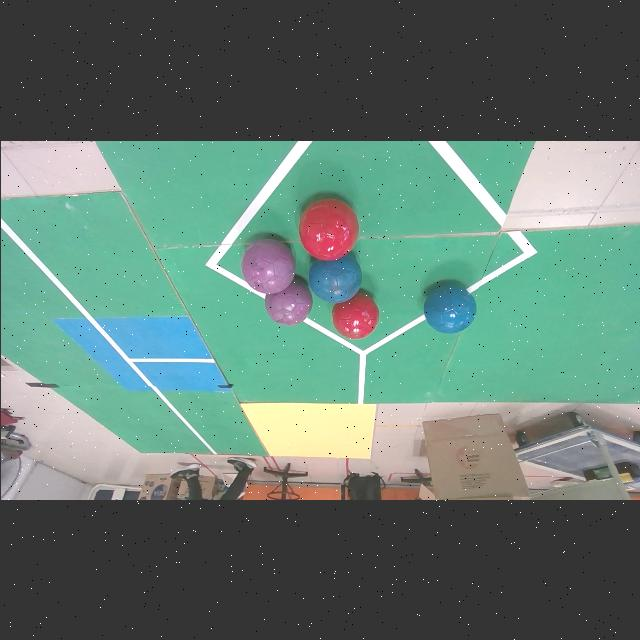B: (308, 253, 361, 304), (422, 284, 476, 333)
P: (241, 240, 293, 292), (264, 279, 312, 325)
R: (298, 198, 358, 261), (331, 292, 378, 339)
